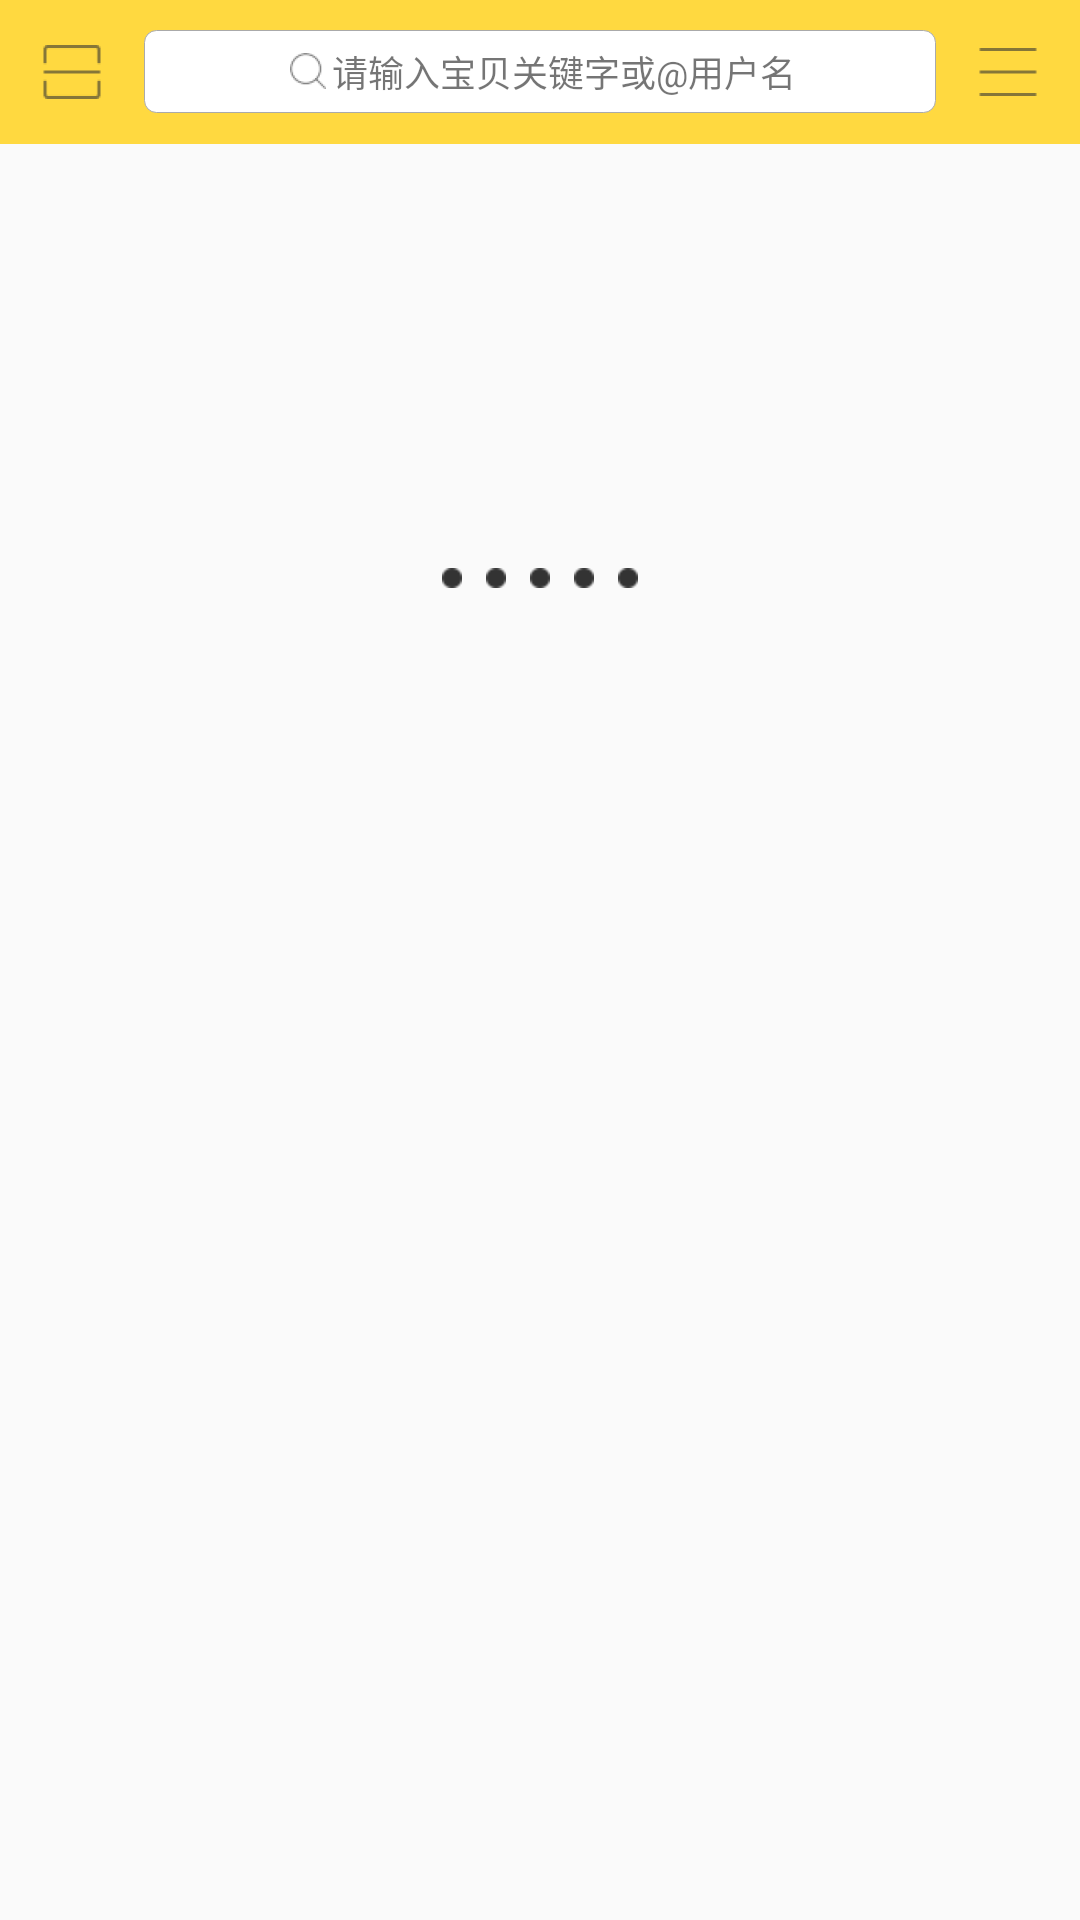

Icon click points for this 1080px×1920px phone screenshot, format [x,y]:
category: [1008,72]
title sreach: [308,71]
